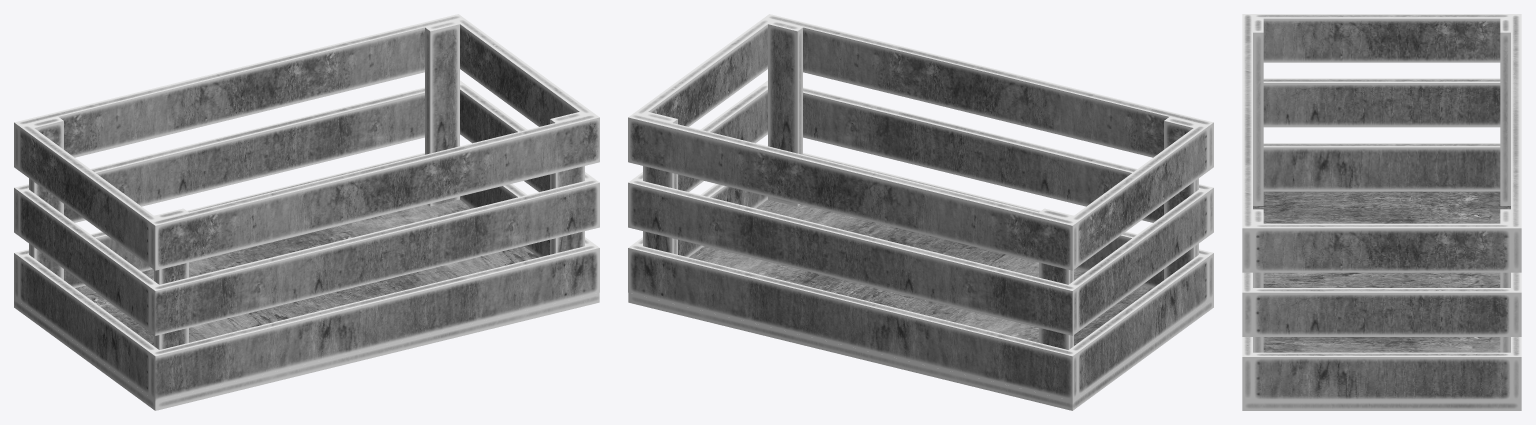
File: WoodenCrate.Fbx
3 views of the same model, side by side, from view 1: azimuth 30°, elevation 25°; view 2: azimuth 150°, elevation 25°; view 3: azimuth 270°, elevation 25° (orthographic).
Visible parts, largest first — view 1: pCube6, polySurface5, pCube1, pCube2; view 2: pCube6, polySurface5, pCube1, pCube2; view 3: polySurface5, pCube1, pCube6, pCube2.
Part boxes in pixels (box(x1,y1,x2,y2)): pCube6: box(14, 14, 599, 400); polySurface5: box(19, 18, 593, 396); pCube1: box(14, 199, 599, 410); pCube2: box(29, 20, 584, 349); pCube6: box(628, 14, 1213, 400); polySurface5: box(633, 18, 1208, 397); pCube1: box(628, 199, 1213, 410); pCube2: box(643, 20, 1198, 349); polySurface5: box(1253, 14, 1511, 401); pCube1: box(1242, 191, 1521, 410); pCube6: box(1242, 14, 1521, 401); pCube2: box(1253, 18, 1510, 352).
Bounding box in the file's own units: 570 × 227 × 314.
